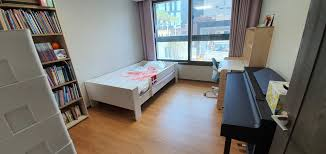Bed: (84, 59, 179, 121)
curtain: (229, 0, 259, 55), (137, 0, 158, 62)
